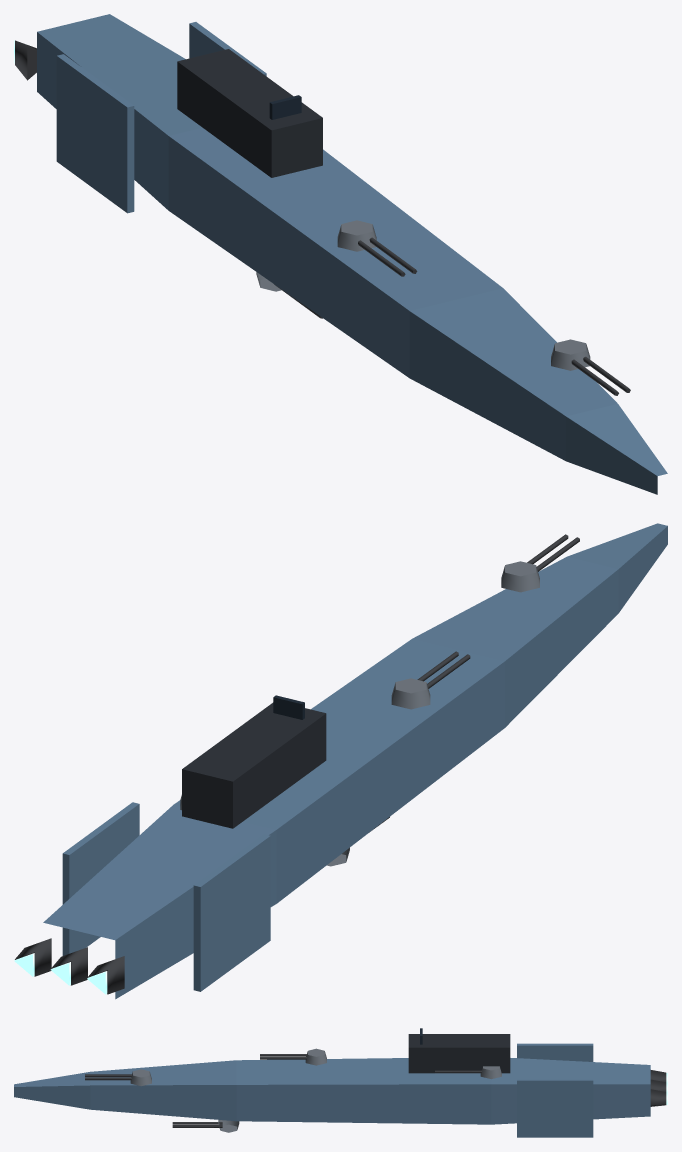
File: space_ship_frigate_mk5_lod2.glb
3 views of the same model, one above another, from view 1: azimuth 30°, elevation 25°; view 2: azimuth 150°, elevation 25°; view 3: azimuth 270°, elevation 25° (orthographic). The views are drawn at different scales.
Visible parts, largest first — view 1: body, turret_2, turret_0, engine_0; view 2: body, turret_2, turret_0, engine_0, engine_2, engine_1; view 3: body, turret_0, turret_2, turret_1, turret_4, engine_2.
Part boxes in pixels (bbox=[...]): body: bbox=[37, 14, 667, 494]; turret_2: bbox=[337, 220, 417, 276]; turret_0: bbox=[551, 339, 630, 395]; engine_0: bbox=[14, 40, 36, 80]; body: bbox=[43, 523, 667, 999]; turret_2: bbox=[391, 651, 470, 709]; turret_0: bbox=[501, 534, 579, 592]; engine_0: bbox=[87, 956, 124, 994]; engine_2: bbox=[14, 938, 51, 976]; engine_1: bbox=[50, 947, 87, 985]; body: bbox=[14, 1028, 650, 1137]; turret_0: bbox=[85, 1069, 151, 1086]; turret_2: bbox=[260, 1048, 326, 1065]; turret_1: bbox=[172, 1120, 239, 1132]; turret_4: bbox=[435, 1066, 501, 1079]; engine_2: bbox=[650, 1089, 667, 1106].
Size of the model in its own units: 6.06 by 6.91 by 45.62.
